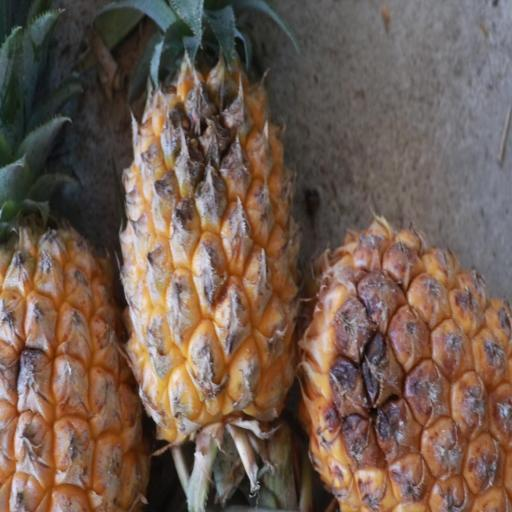Pineapple - v8 v1: (109, 0, 304, 460), (1, 0, 149, 512), (297, 220, 512, 512)
